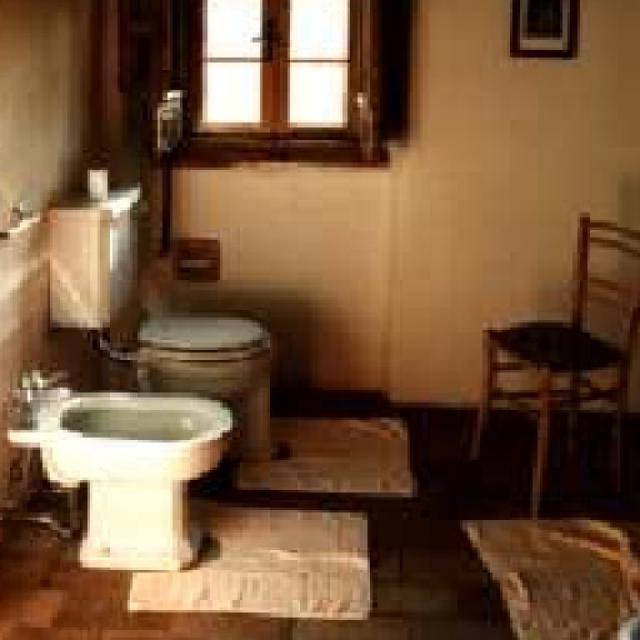2001: (175, 0, 375, 165)
bidet: (10, 360, 68, 425)
bidet faucet: (12, 368, 238, 568)
chair -occluded-: (470, 212, 640, 515)
floor -X: (5, 390, 640, 635)
painting crop: (515, 0, 585, 52)
pipe: (8, 490, 82, 542)
rug -partially obscured-: (135, 500, 372, 615), (465, 518, 640, 635), (242, 415, 418, 490)
toilet bowl: (55, 182, 275, 452)
towel ring: (5, 198, 38, 238)
